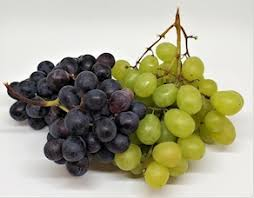Black grapes: (23, 54, 130, 159)
Green grapes: (145, 52, 234, 182)
